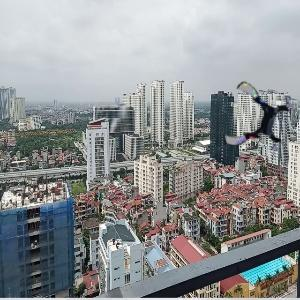drone: (224, 87, 292, 155)
